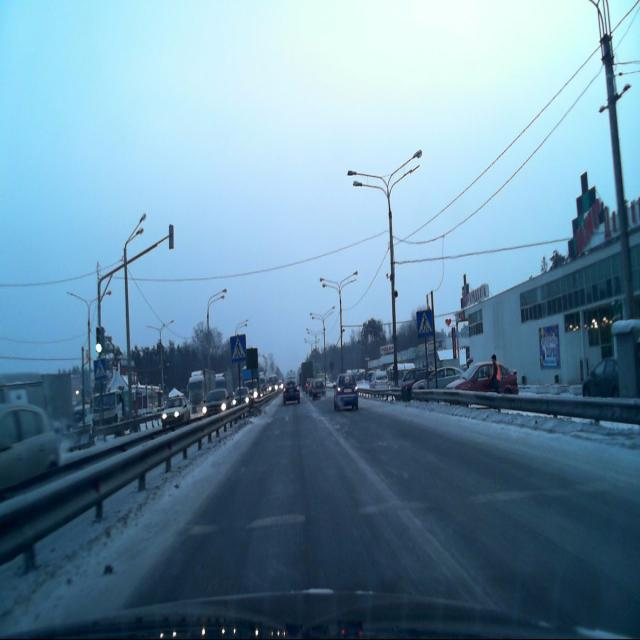road sign: (230, 334, 246, 363), (416, 309, 432, 337)
